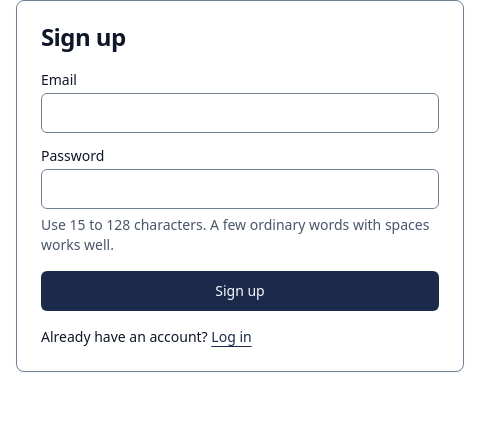
Test: SignUpPage › T-031 an unexpected server failure shows one alert and keeps the typed values
Type "ana@example.com" into the field labelled "Email" at [240, 113], box [41,93,439,133]
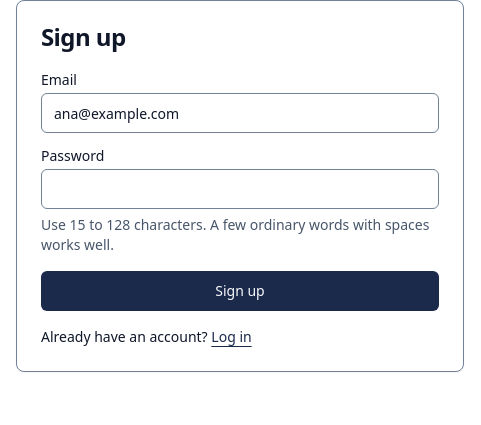
Type "correct horse battery staple" into the password field labelled "Password" at [240, 189], box [41,169,439,209]
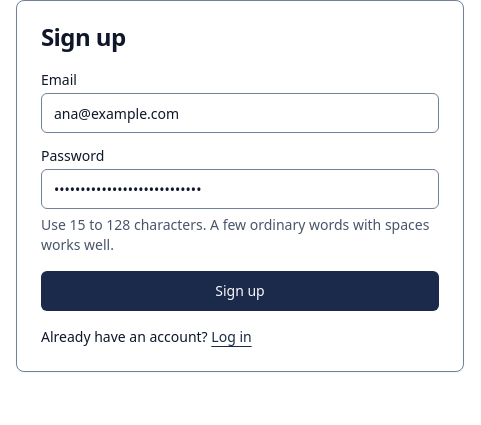
Click the button "Sign up" at [240, 291], box [41,271,439,311]
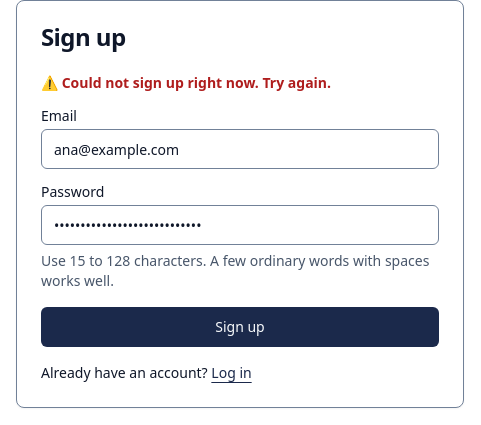
expect the message shows "Could not sign up right now. Try again.": met, box [62,73,331,92]
